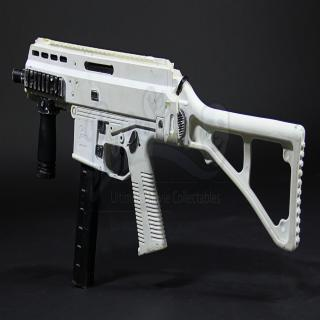gun: (11, 34, 305, 292)
